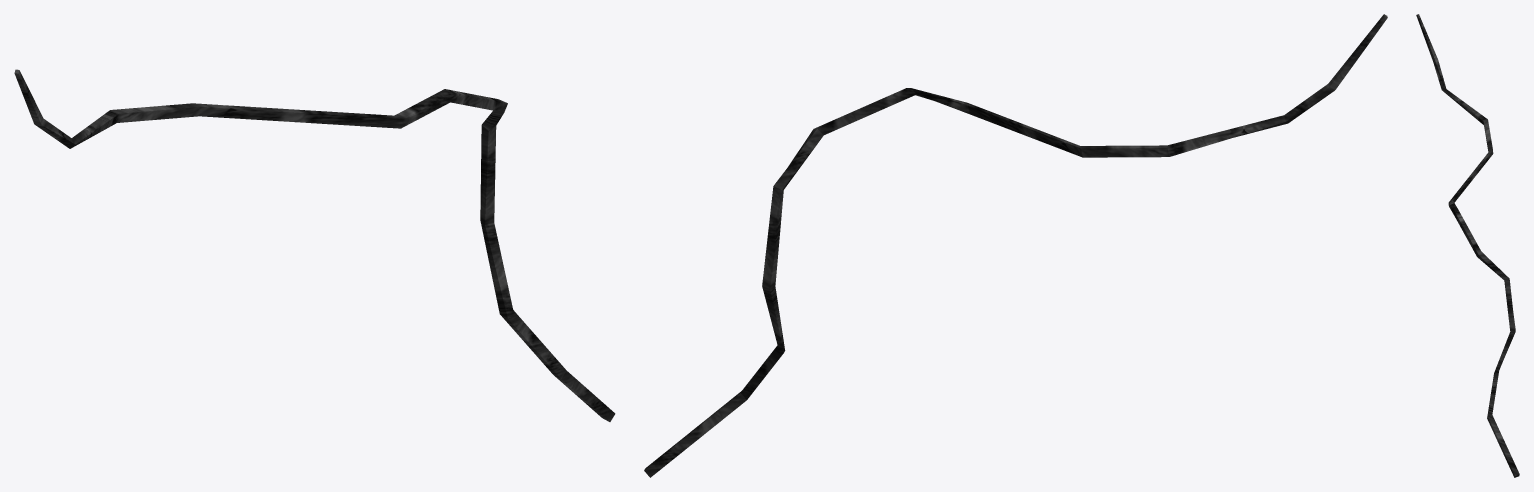
The model's file is SnowCreatureB_4.gltf.
3 renders of one model, left to right at view 1: azimuth 30°, elevation 25°; view 2: azimuth 150°, elevation 25°; view 3: azimuth 270°, elevation 25°, orthographic. The views are drawn at different scales.
Visible parts, largest first — view 1: SnowCreatureB_4; view 2: SnowCreatureB_4; view 3: SnowCreatureB_4.
Boxes of the visible parts, box(x1,y1,x2,y2) form: SnowCreatureB_4: box(14, 69, 615, 421); SnowCreatureB_4: box(644, 14, 1387, 477); SnowCreatureB_4: box(1416, 14, 1519, 477).
Size of the model in its own units: 23.24 by 18.81 by 5.97.
1 material, 1 textured.
